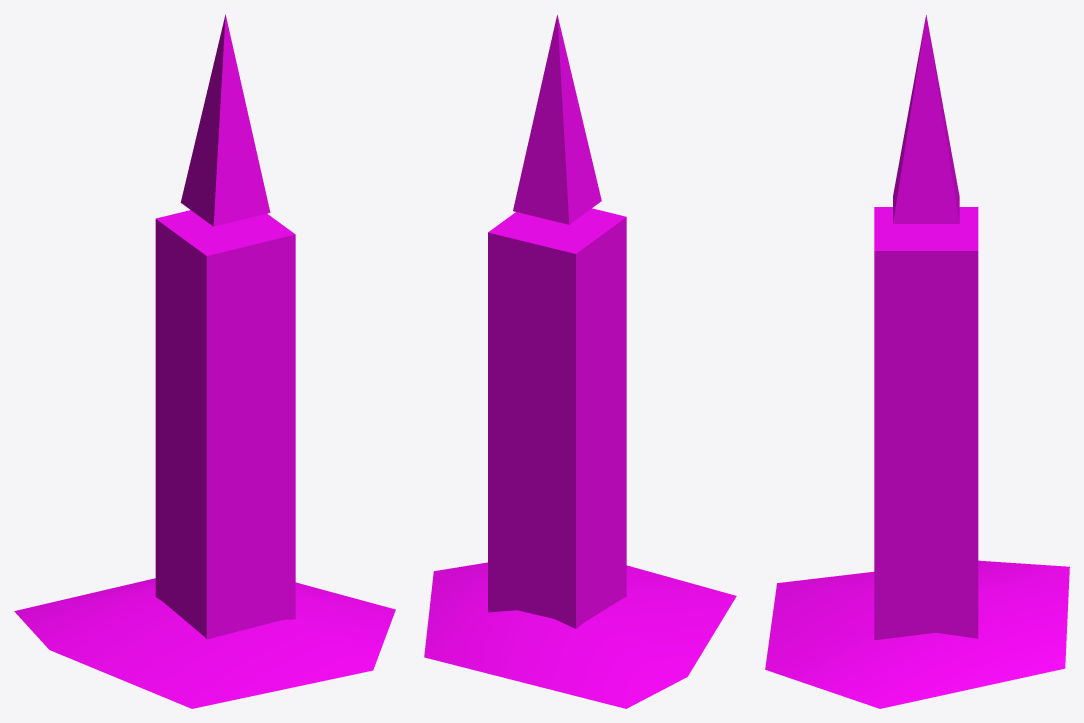
3 renders of one model, left to right at view 1: azimuth 30°, elevation 25°; view 2: azimuth 150°, elevation 25°; view 3: azimuth 270°, elevation 25°, orthographic. The views are drawn at different scales.
Parts seen in each view (by area): view 1: candle_j_01; view 2: candle_j_01; view 3: candle_j_01.
Part boxes in pixels (x1=…): candle_j_01: x1=14, y1=14, x2=395, y2=708; candle_j_01: x1=424, y1=15, x2=736, y2=708; candle_j_01: x1=765, y1=15, x2=1069, y2=708.
Bounding box in the file's own units: 0.00627 × 0.0122 × 0.00543.
